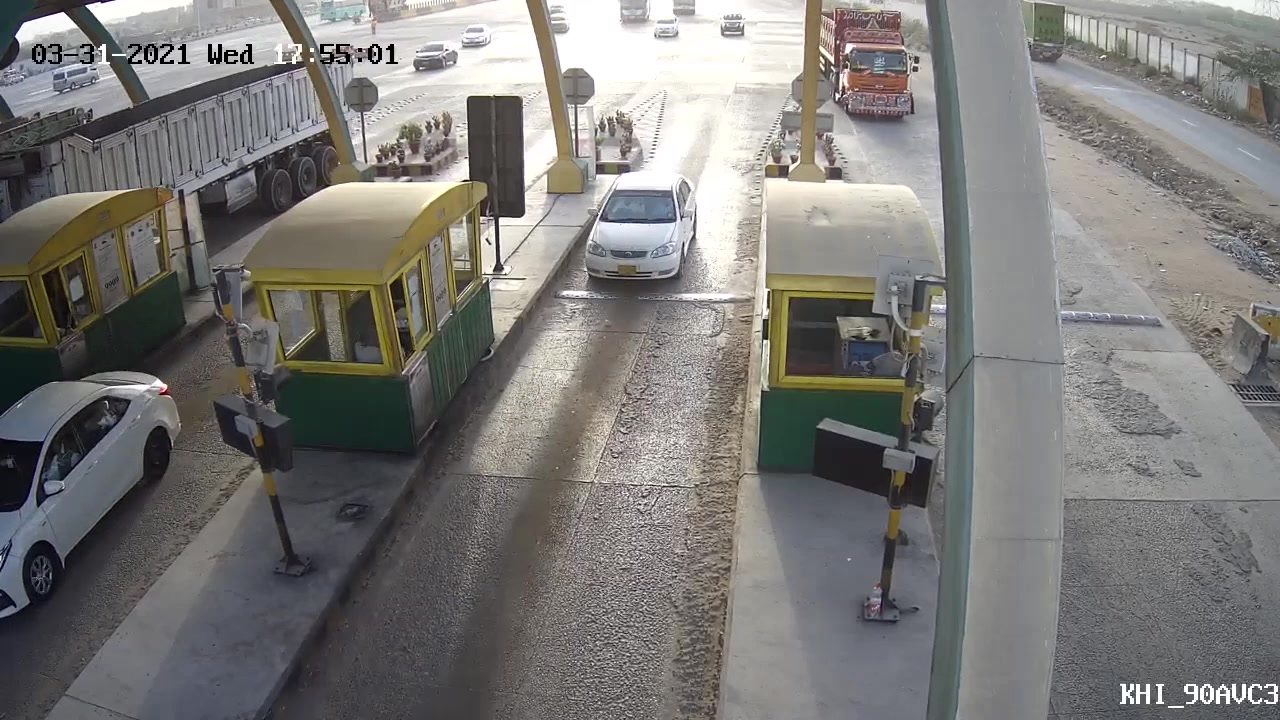F1: (575, 166, 704, 287)
